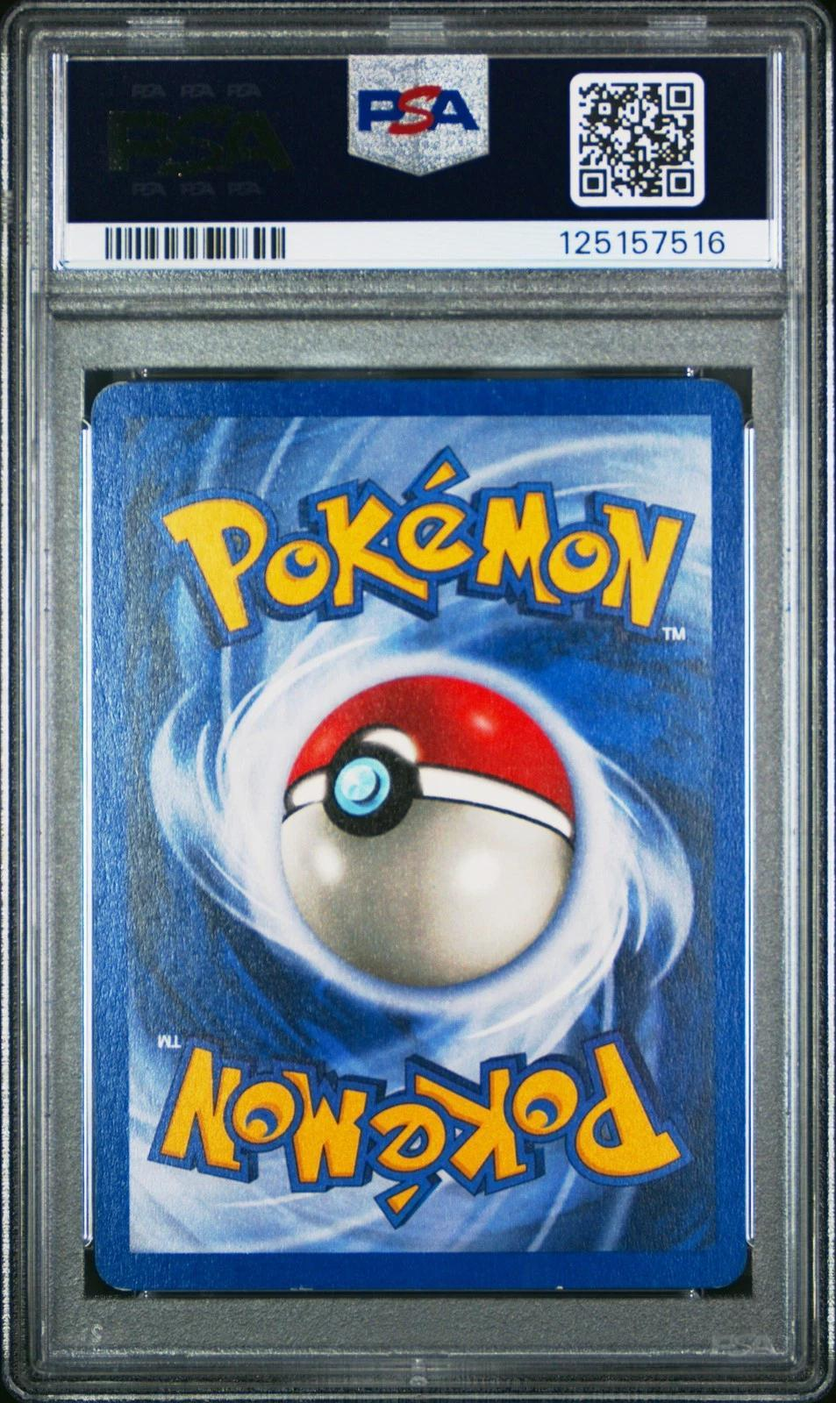card-2UtV: (90, 377, 748, 1292)
